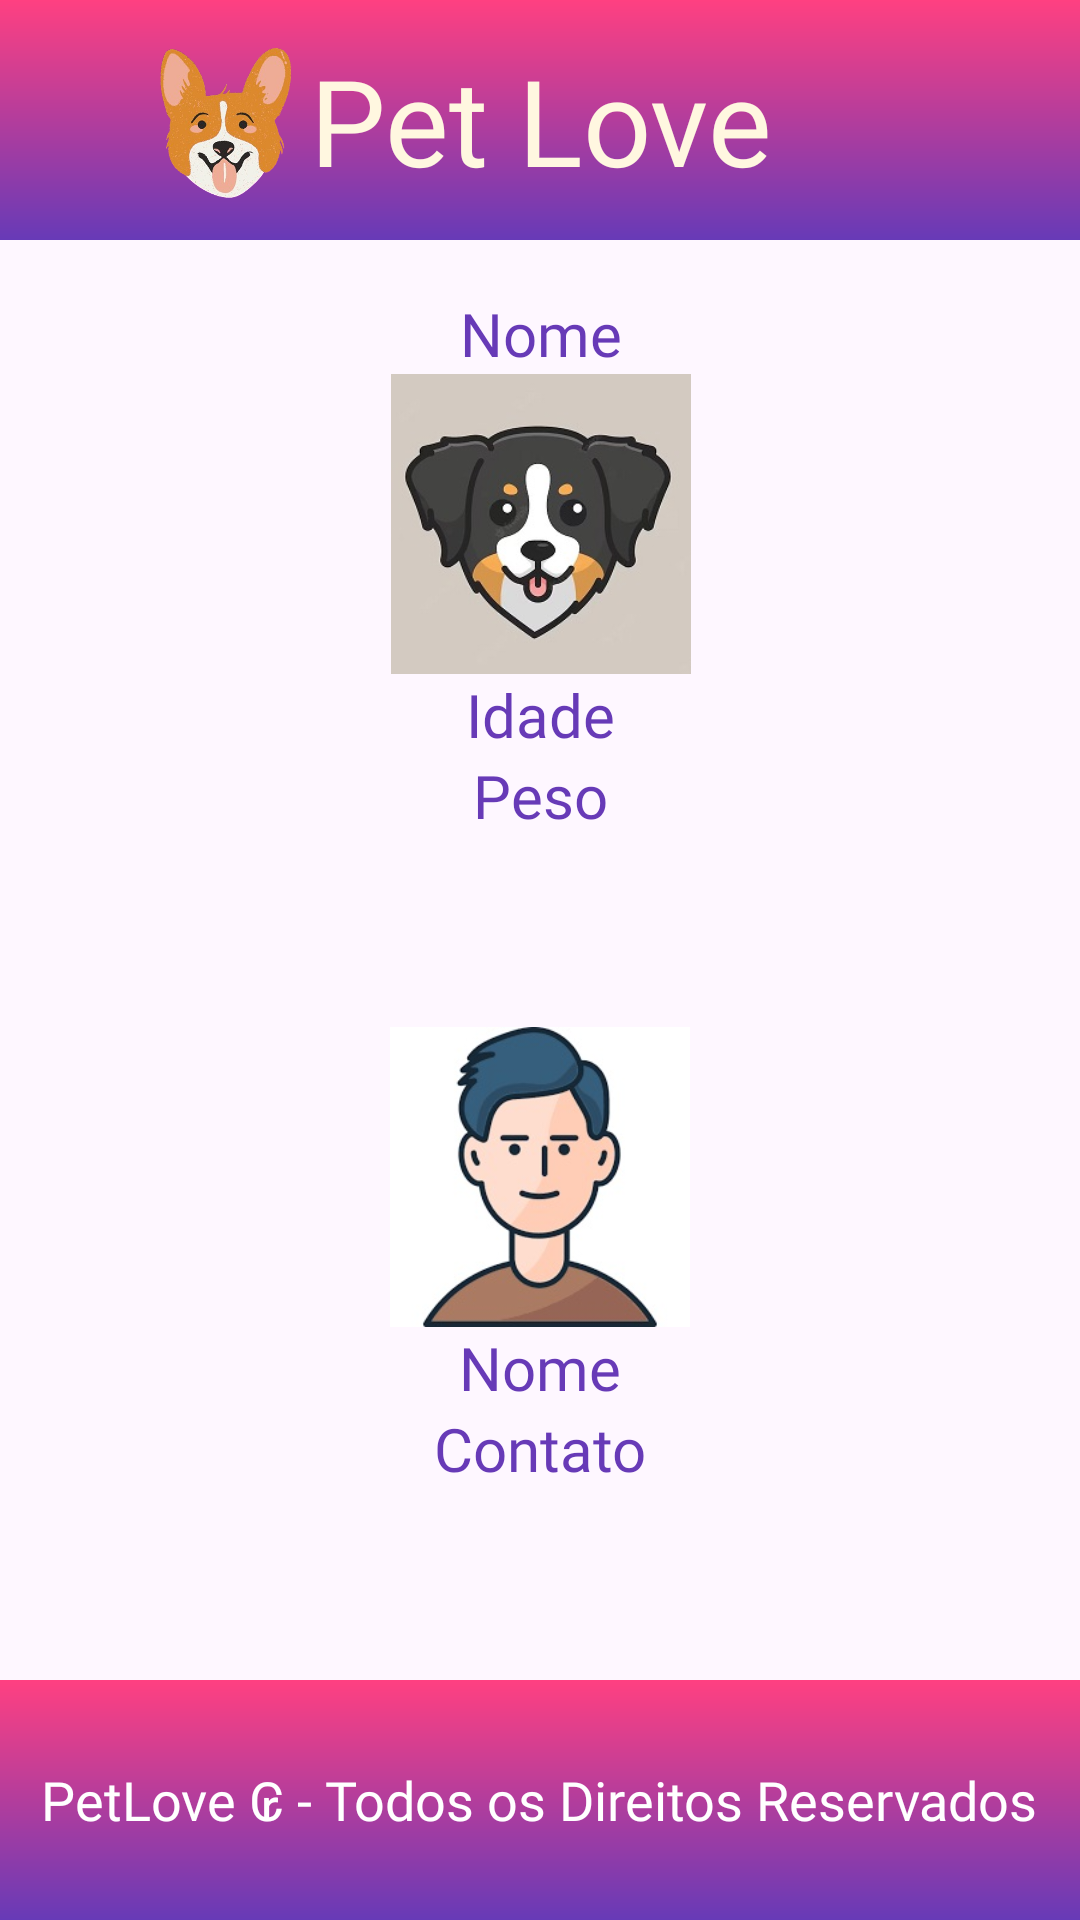

Icon bounding boxes for this 1080px x 1920px phone screenshot, format (x1, y1, x2, y2):
dog: (391, 374, 691, 674)
